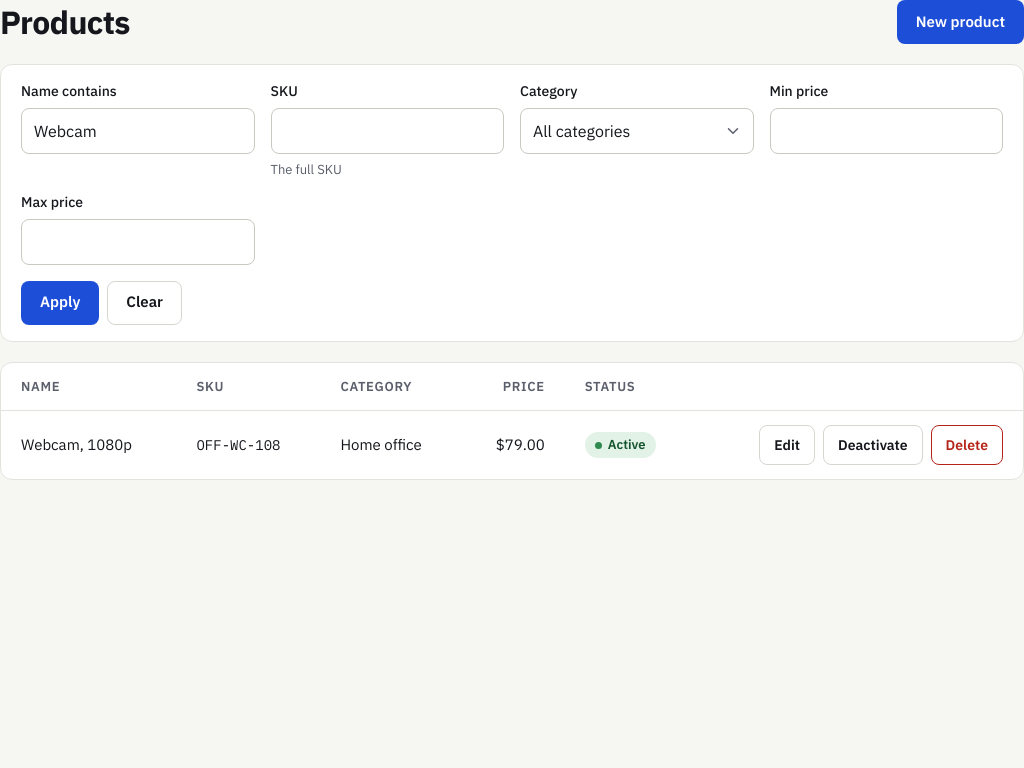
Scenario: AdminProductsPage › asks before deleting and explains deactivating
The width and height of the screenshot is (1024, 768).
Step 1. Click the button with aria-label "Delete Webcam, 1080p" → x=967, y=445, box [931,425,1003,465]
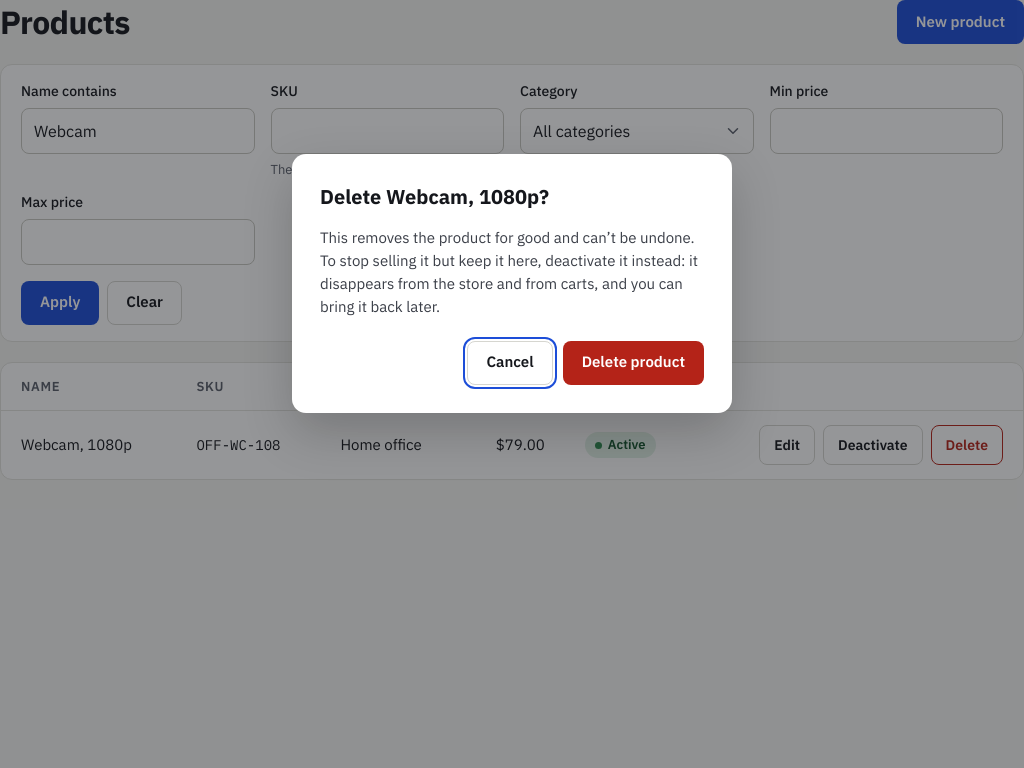
Result: the text "deactivate it instead" is shown at [320,228,698,316]
Step 2. Click the button "Cancel" → x=510, y=363, box [467,341,553,385]
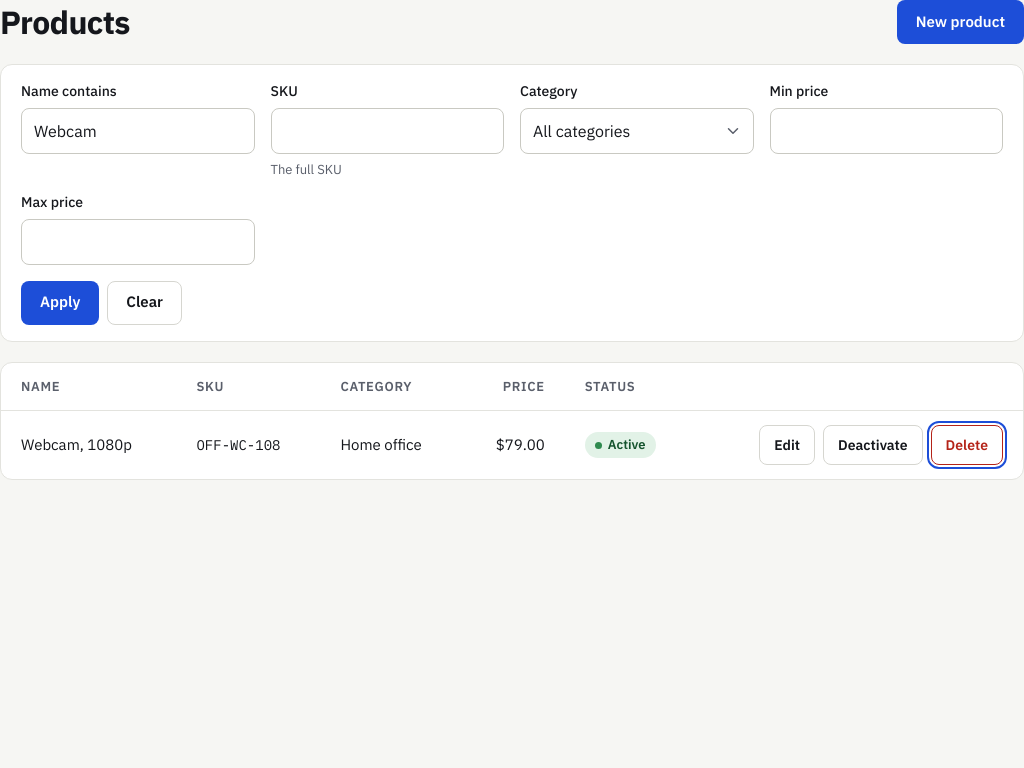
Expected: the text "Webcam, 1080p" is shown, [1,410,176,479]
Step 3. Click the button with aria-label "Delete Webcam, 1080p" → x=967, y=445, box [931,425,1003,465]
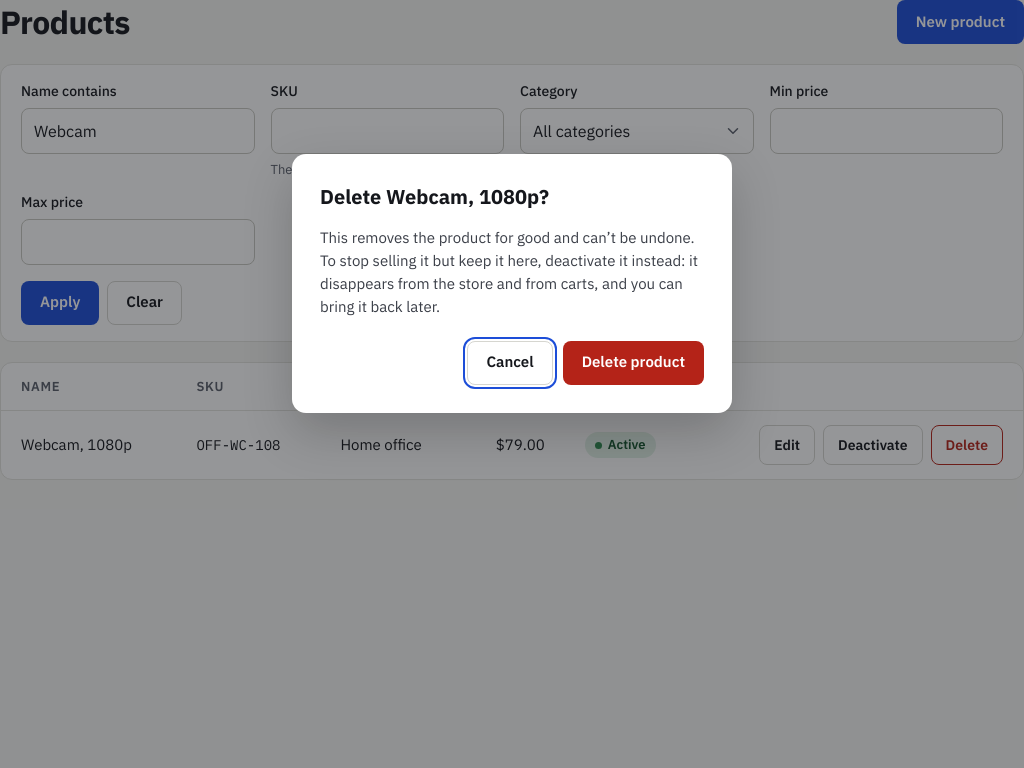
Step 4. Click the button "Delete product" → x=633, y=363, box [563,341,704,385]
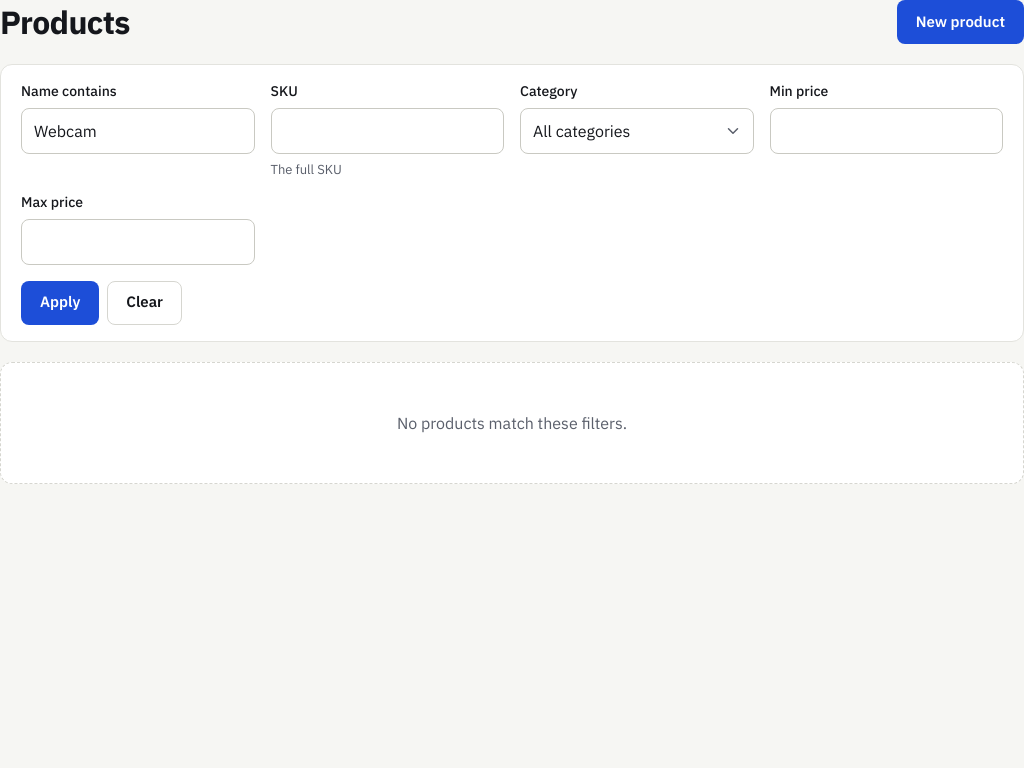
Result: the text "No products match these filters." is shown at [397,410,627,434]
